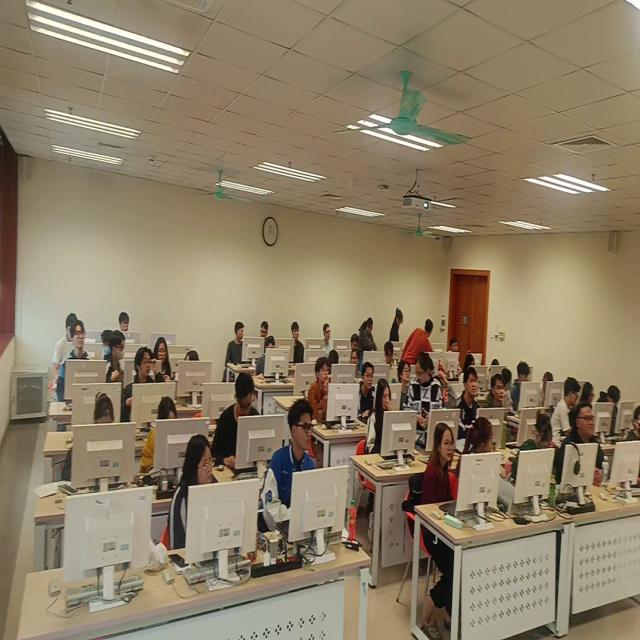raise_head: (263, 398, 320, 535), (168, 434, 219, 557), (559, 400, 608, 483), (56, 319, 91, 401), (308, 355, 333, 463), (121, 346, 156, 423), (452, 366, 482, 438), (359, 362, 378, 424), (398, 358, 413, 410), (487, 371, 507, 410), (449, 335, 464, 379), (626, 404, 640, 444), (119, 311, 132, 335)
stand: (404, 351, 444, 453), (401, 318, 435, 368), (360, 316, 378, 352), (391, 307, 406, 341)
using_computer: (419, 423, 461, 640), (214, 371, 263, 473), (514, 413, 555, 495), (142, 395, 180, 482), (53, 312, 80, 365), (256, 334, 278, 381), (89, 390, 117, 426), (155, 337, 174, 376), (385, 340, 398, 371), (463, 352, 477, 373), (351, 332, 361, 351), (490, 356, 502, 368)
